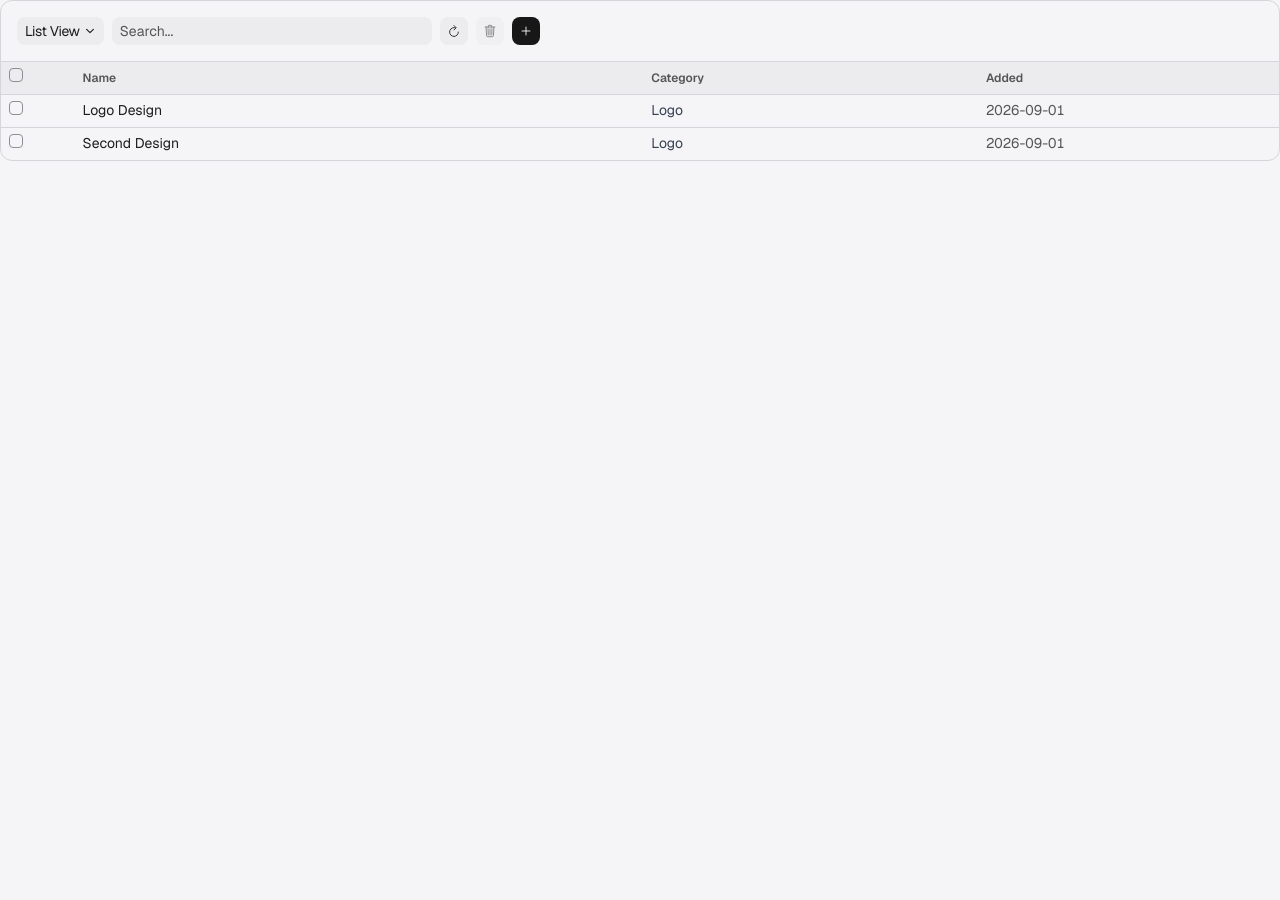
it: DesignRepository — deleting ticked designs › names every design the delete is about to take
Click the checkbox named "Select Logo Design" at (16, 108), box [9,101,23,115]
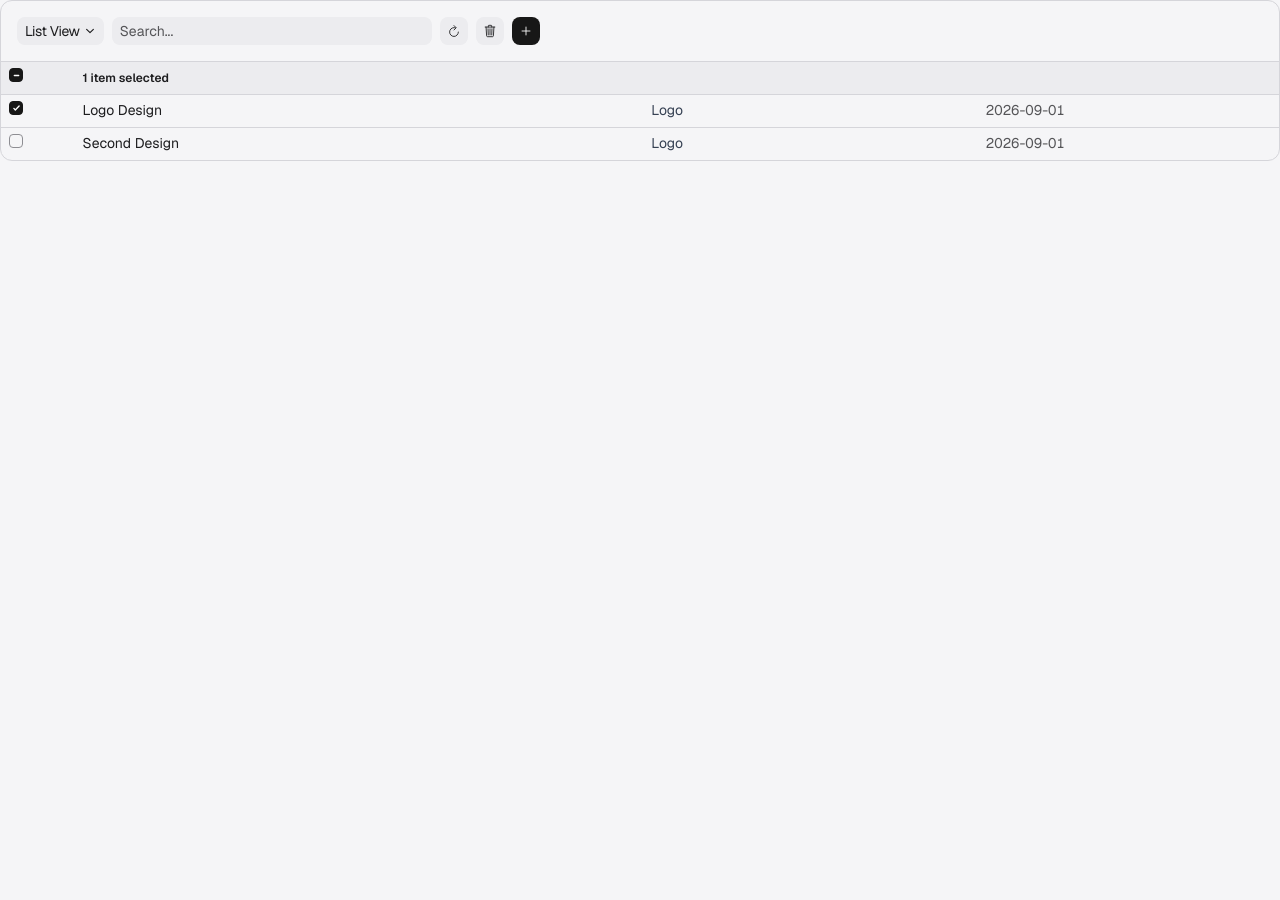
Click the checkbox named "Select Second Design" at (16, 141), box [9,134,23,148]
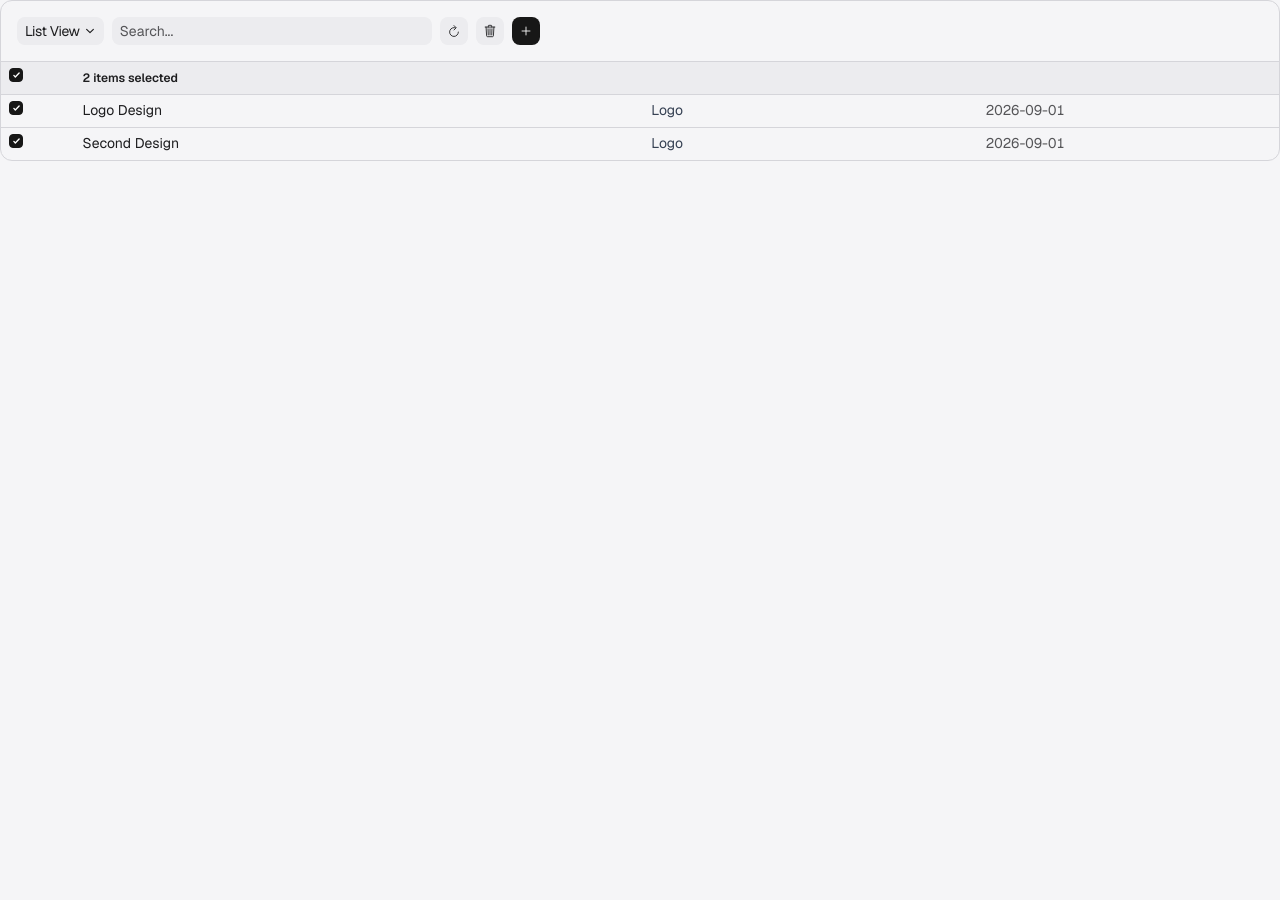
Click the button named "Delete 2 selected designs" at (490, 31), box [476,17,504,45]
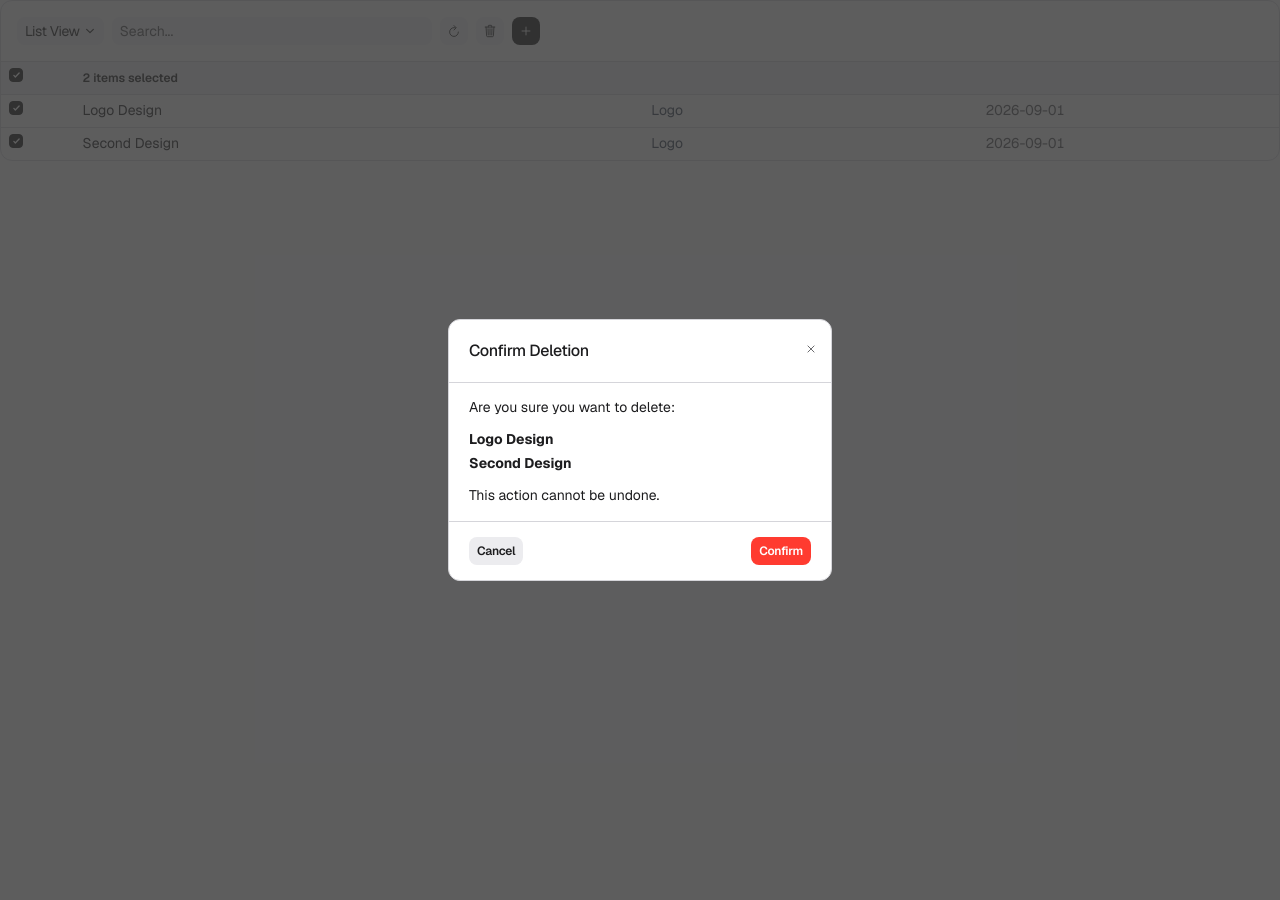
Expected: the list item "Logo Design" is shown, [469,431,554,449]
Expected: the list item "Second Design" is shown, [469,455,572,473]
